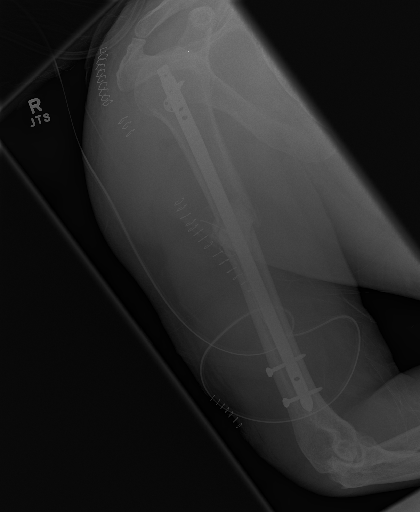implant: (259, 316, 319, 417)
